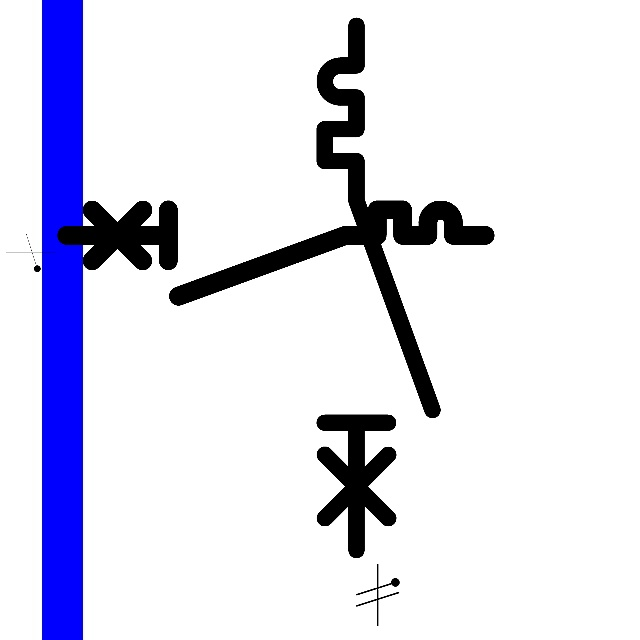interruptor_termomagnetico: (311, 12, 446, 563), (55, 199, 496, 307)
